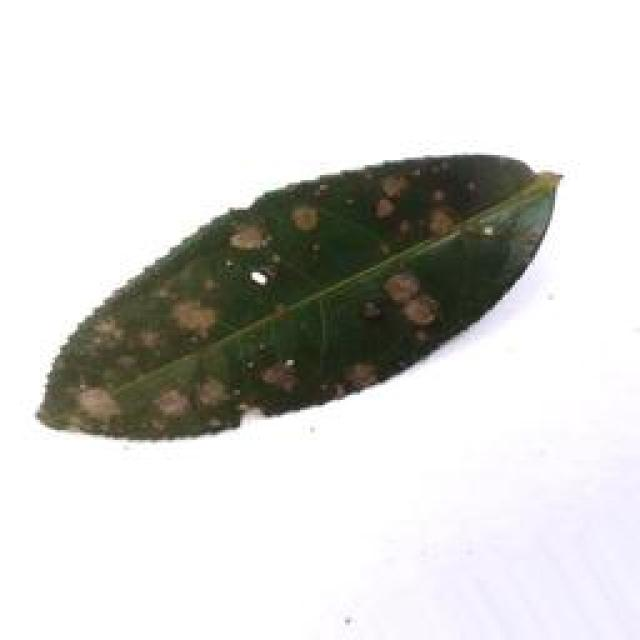Algal Leaf Spot: (20, 135, 571, 455)
